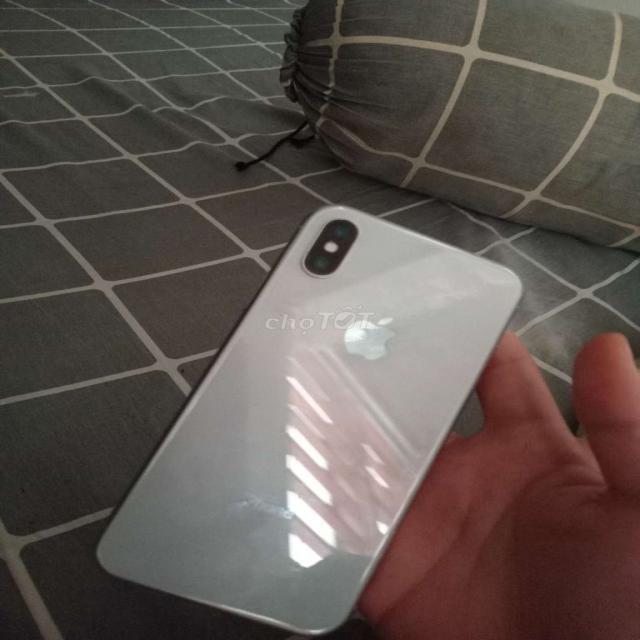gen_x_xs: (98, 206, 522, 634)
